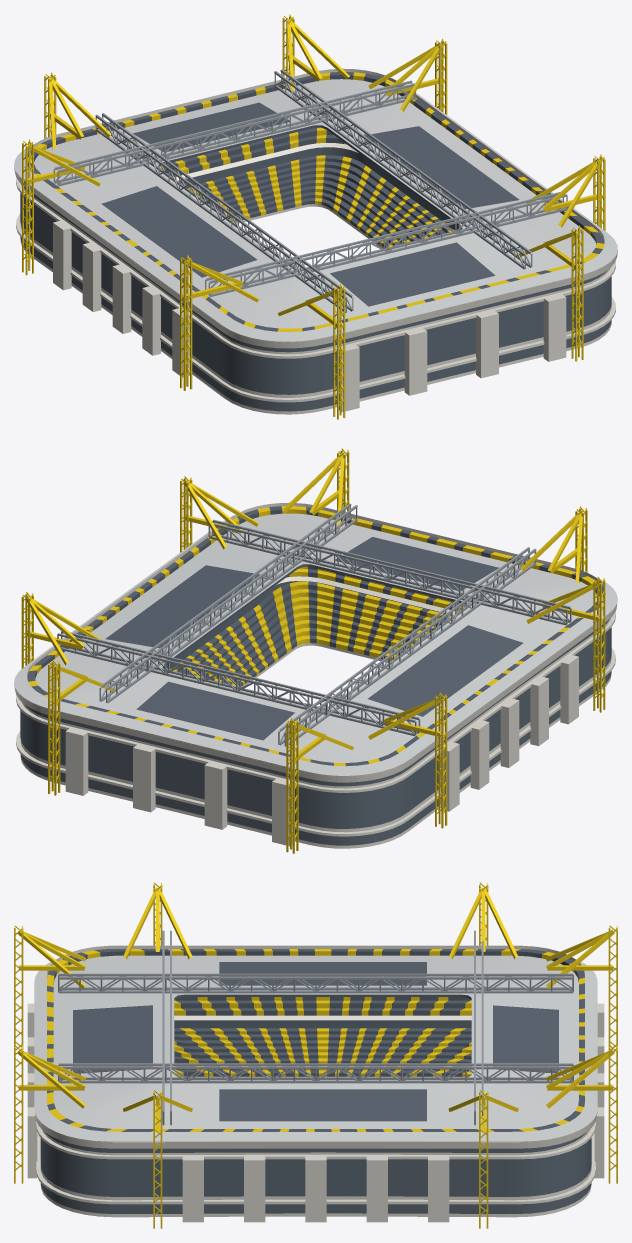
Rendered from dortmund-signal-iduna-park.detail.glb.
The picture shows the model from 3 angles, top to bottom: view 1: azimuth 30°, elevation 25°; view 2: azimuth 150°, elevation 25°; view 3: azimuth 270°, elevation 25°; orthographic projection. The views are drawn at different scales.
Visible parts, largest first — view 1: Signal Iduna Park; view 2: Signal Iduna Park; view 3: Signal Iduna Park.
Boxes of the visible parts, left/top/right/bottom form: Signal Iduna Park: left=14, top=14, right=617, bottom=419; Signal Iduna Park: left=14, top=448, right=617, bottom=853; Signal Iduna Park: left=14, top=882, right=617, bottom=1228.
Bounding box in the file's own units: 212 × 63.15 × 256.
